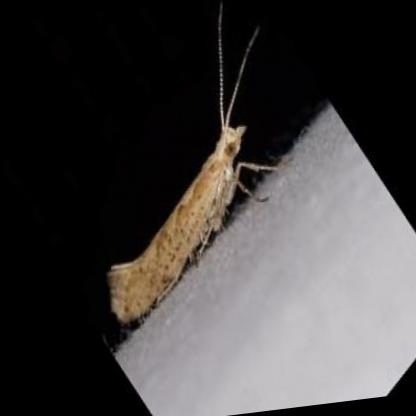plutella: (106, 0, 278, 325)
